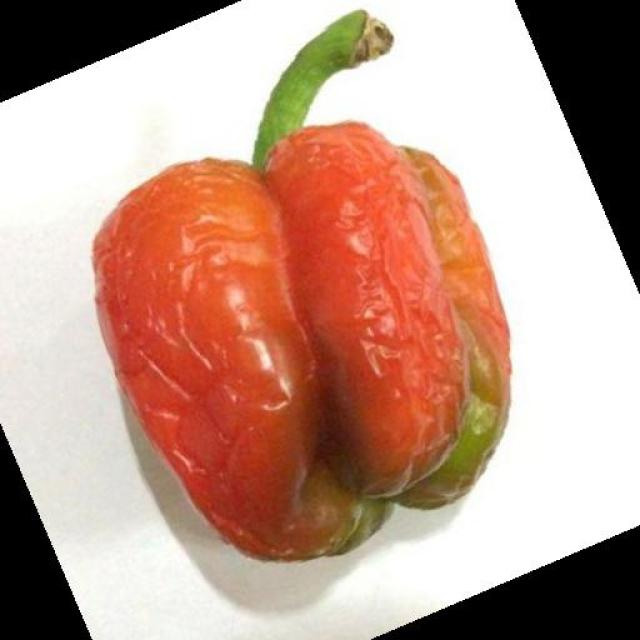Stale_Capsicum: (85, 19, 543, 544)
